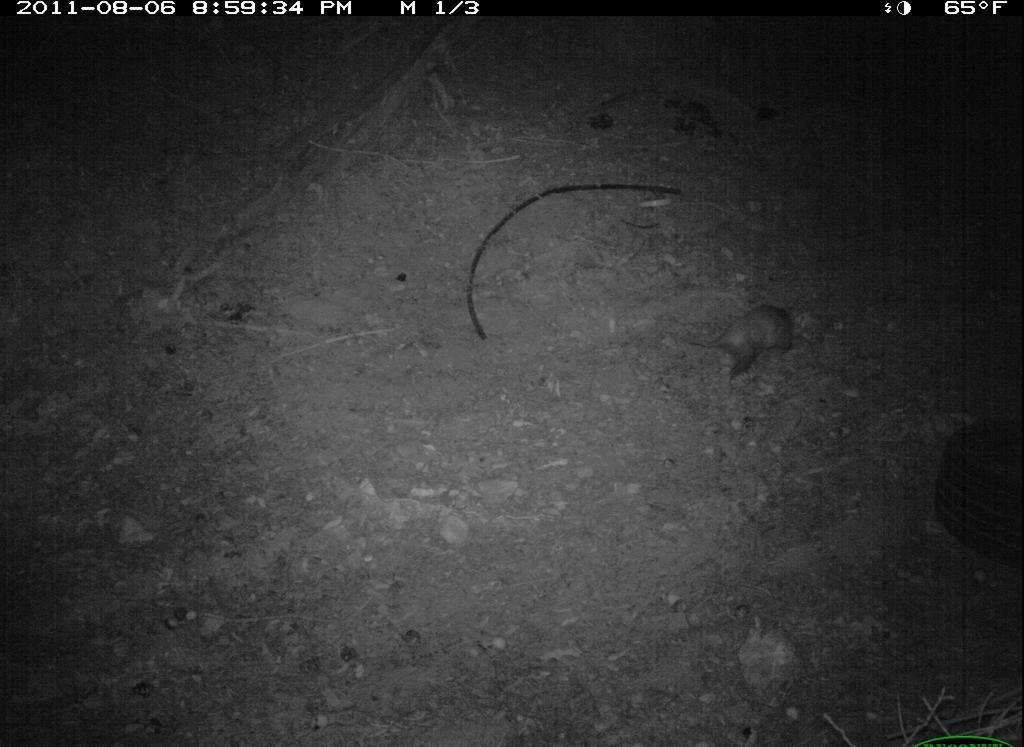opossum: (683, 297, 816, 385)
